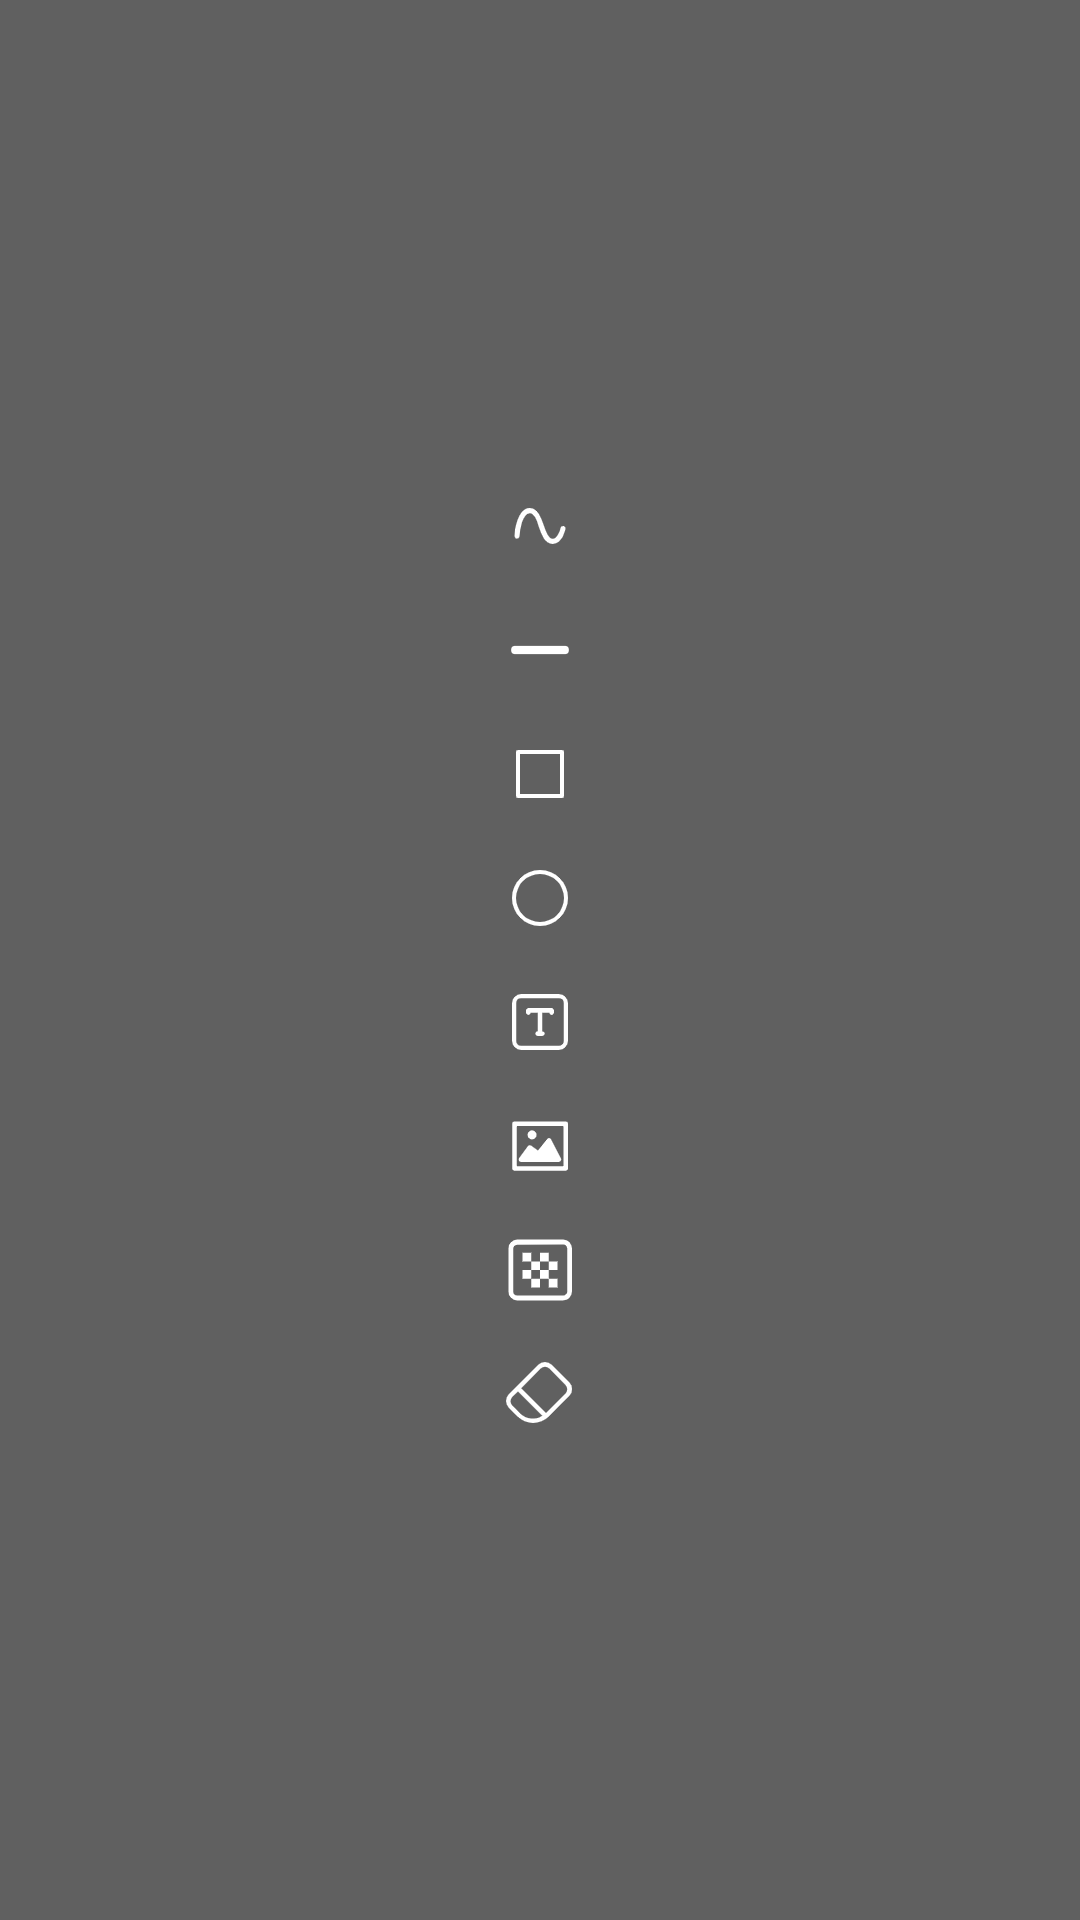

Named icons in this screenshot (1080px×1920px) and their bounding boxes, BBox(x1, y1, x2, y2):
bitmap: BBox(512, 1121, 568, 1171)
eraser: BBox(506, 1362, 572, 1423)
mosaic: BBox(508, 1239, 572, 1301)
oval: BBox(512, 870, 568, 926)
rect: BBox(516, 750, 564, 798)
text: BBox(512, 994, 568, 1050)
